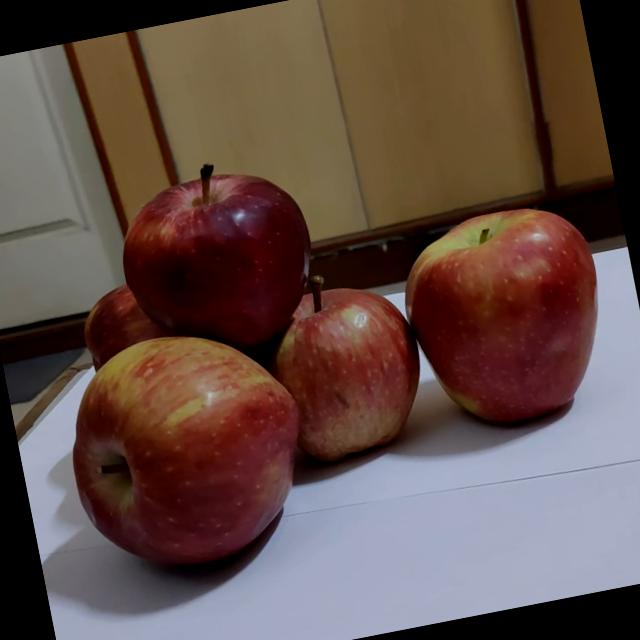apple: (38, 300, 330, 593), (379, 171, 640, 467), (94, 127, 350, 384), (237, 252, 452, 482), (39, 235, 256, 409)
